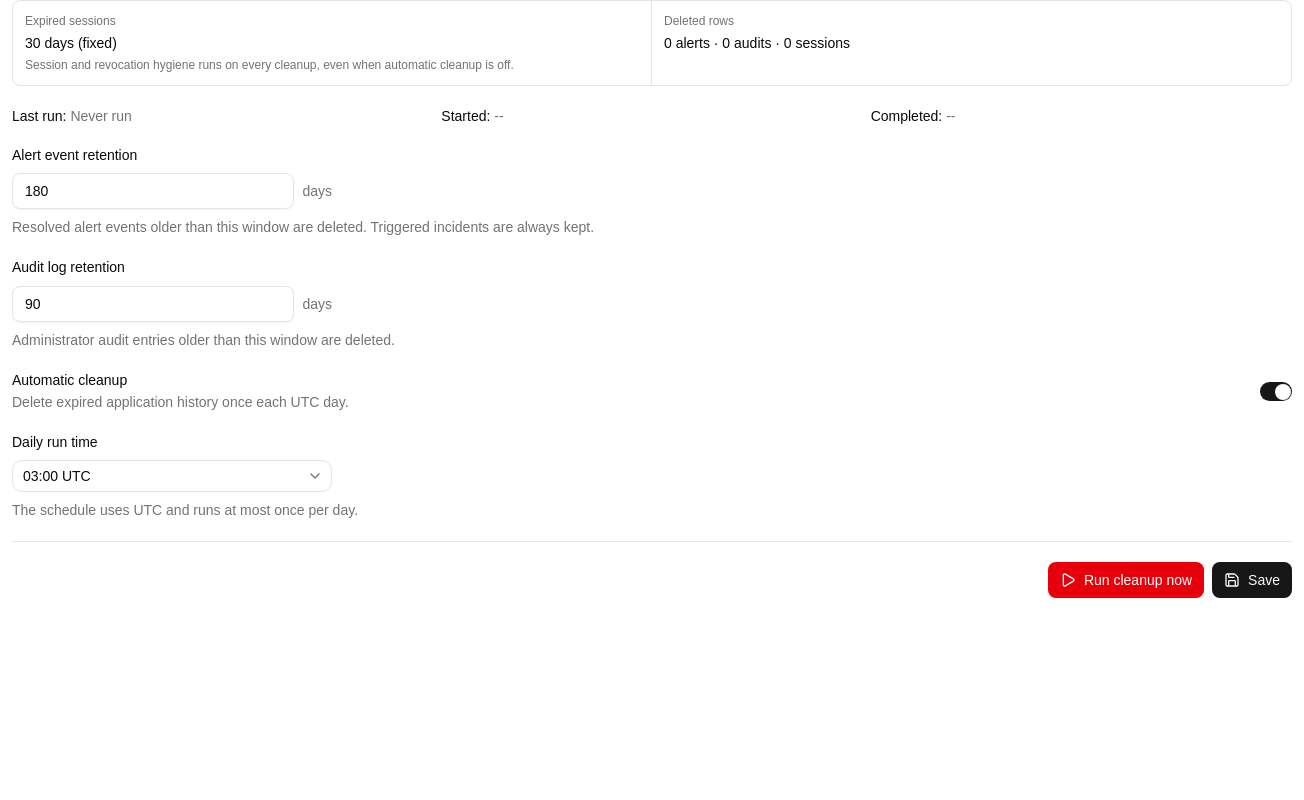
Test: application history retention panel › runs a manual cleanup only after confirmation and shows deleted counts
The width and height of the screenshot is (1304, 800).
Check: the number field labelled "Alert event retention" is shown, box [12,173,294,209]
Step 1. Click the button "Run cleanup now" → (1126, 580), box [1048,562,1204,598]
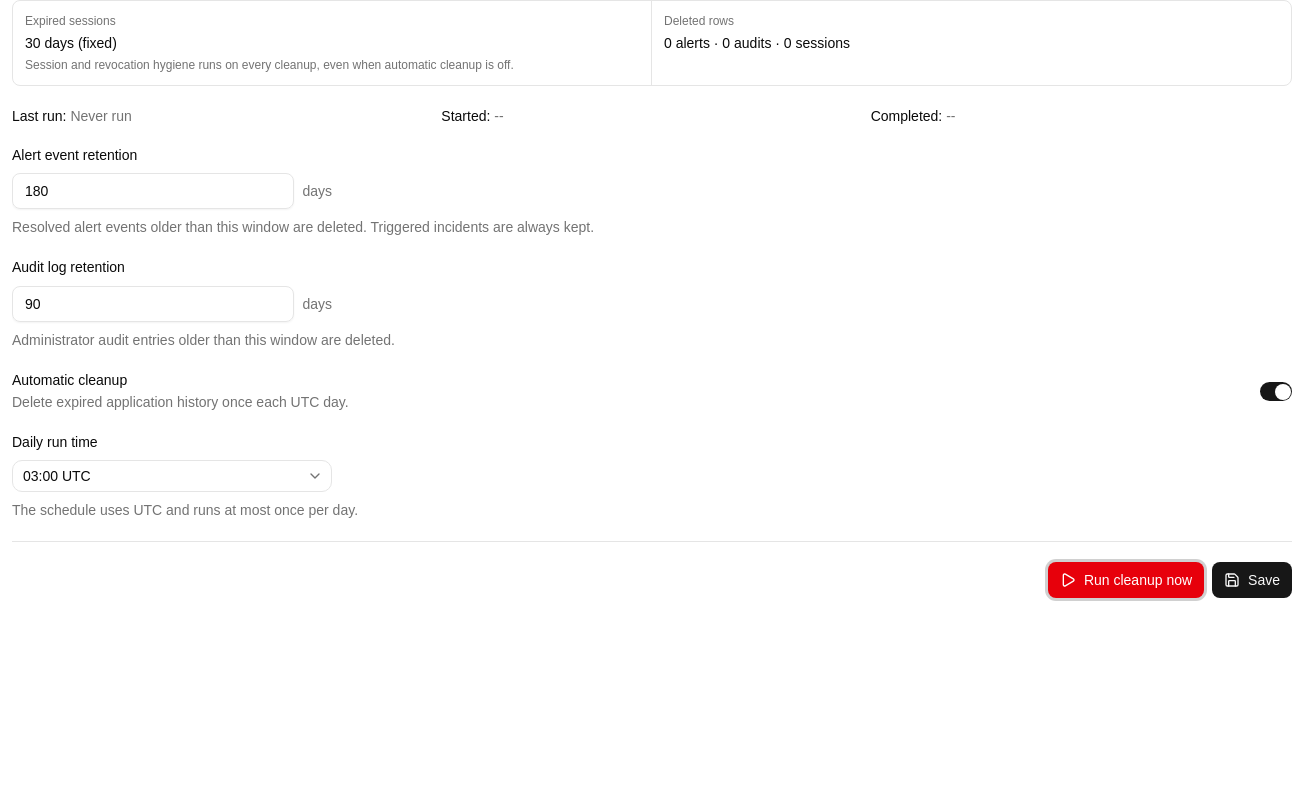
Step 2. Click the button "Run cleanup now" → (1126, 580), box [1048,562,1204,598]
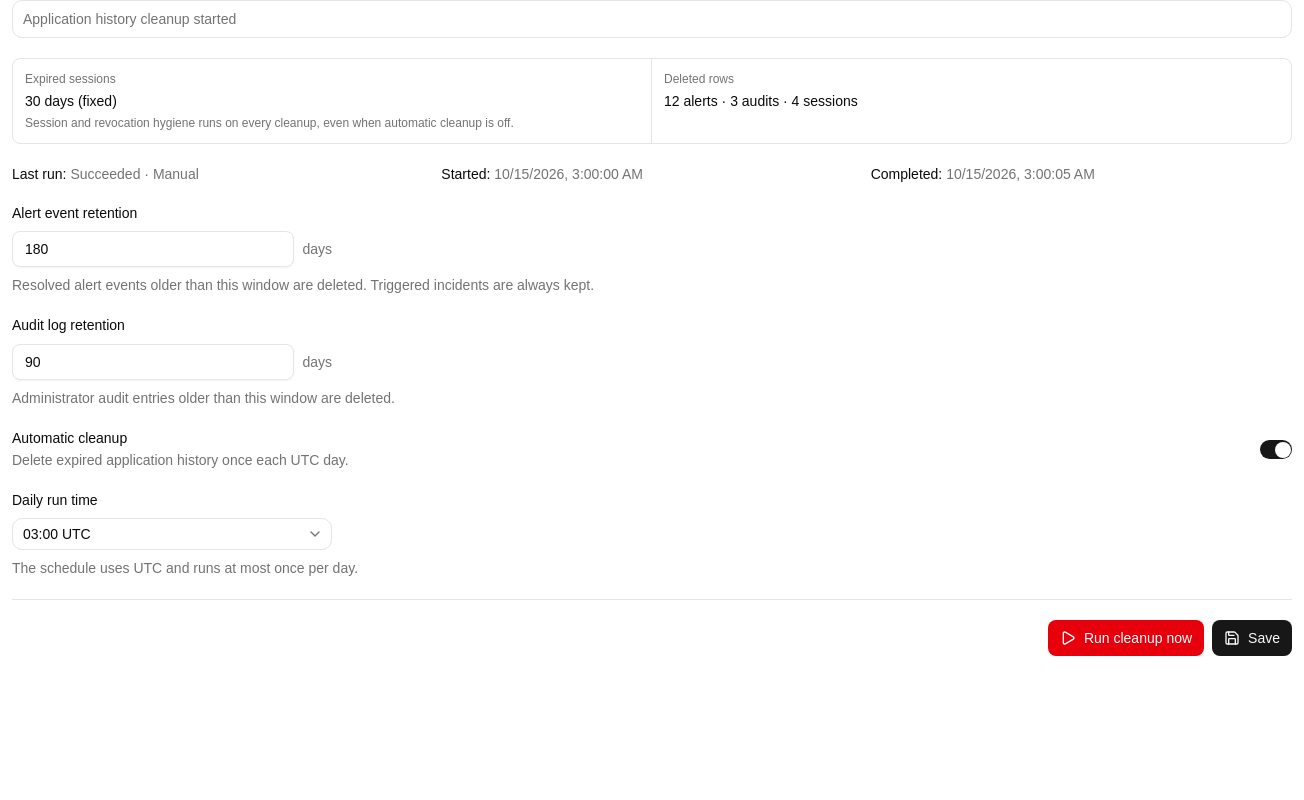
Check: the text "12 alerts · 3 audits · 4 sessions" is shown, box [664,93,858,109]
Check: the text "Last run: Succeeded · Manual" is shown, box [12,166,199,182]
